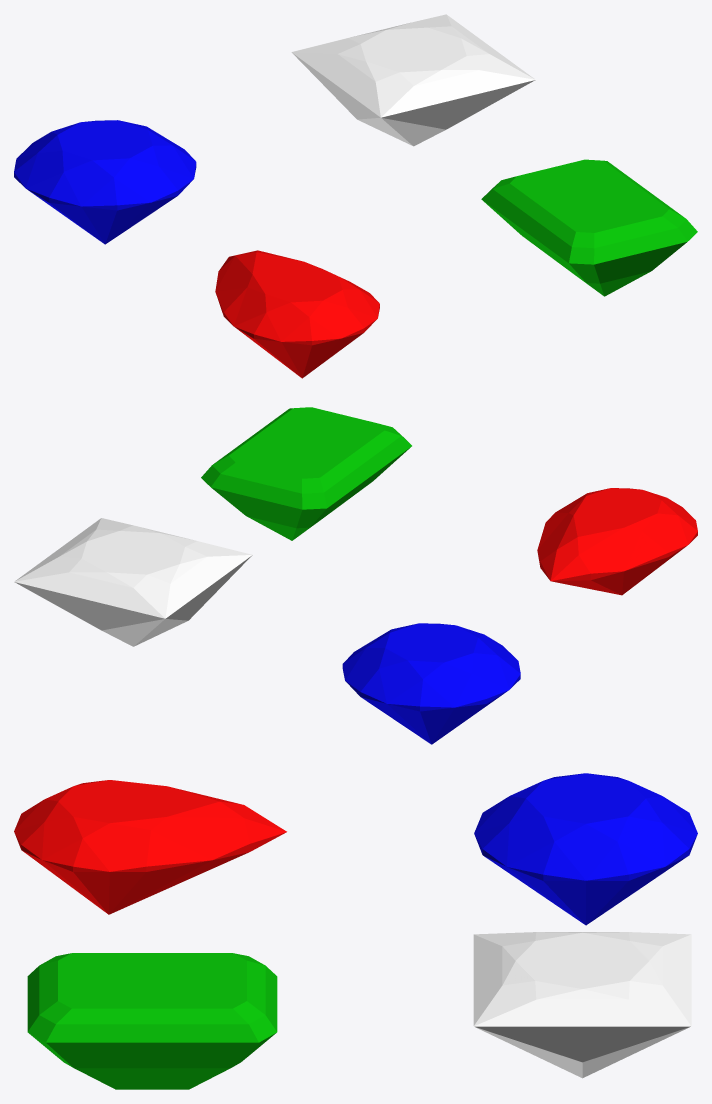
File: gems.fbx
The picture shows the model from 3 angles, top to bottom: view 1: azimuth 30°, elevation 25°; view 2: azimuth 150°, elevation 25°; view 3: azimuth 270°, elevation 25°; orthographic projection. The views are drawn at different scales.
Parts seen in each view (by area): view 1: PrincessCut, EmeraldCut, RoundCut, TeardropCut; view 2: PrincessCut, EmeraldCut, RoundCut, TeardropCut; view 3: EmeraldCut, PrincessCut, TeardropCut, RoundCut.
Boxes of the visible parts, box(x1,y1,x2,y2) form: PrincessCut: box(291, 14, 535, 146); EmeraldCut: box(481, 159, 697, 296); RoundCut: box(14, 120, 196, 244); TeardropCut: box(215, 250, 379, 378); PrincessCut: box(14, 518, 252, 646); EmeraldCut: box(201, 407, 411, 540); RoundCut: box(342, 623, 520, 744); TeardropCut: box(537, 488, 697, 595); EmeraldCut: box(27, 953, 277, 1089); PrincessCut: box(473, 932, 691, 1078); TeardropCut: box(14, 780, 286, 914); RoundCut: box(474, 773, 697, 925).
Bounding box in the file's own units: 303 × 75.42 × 318.
